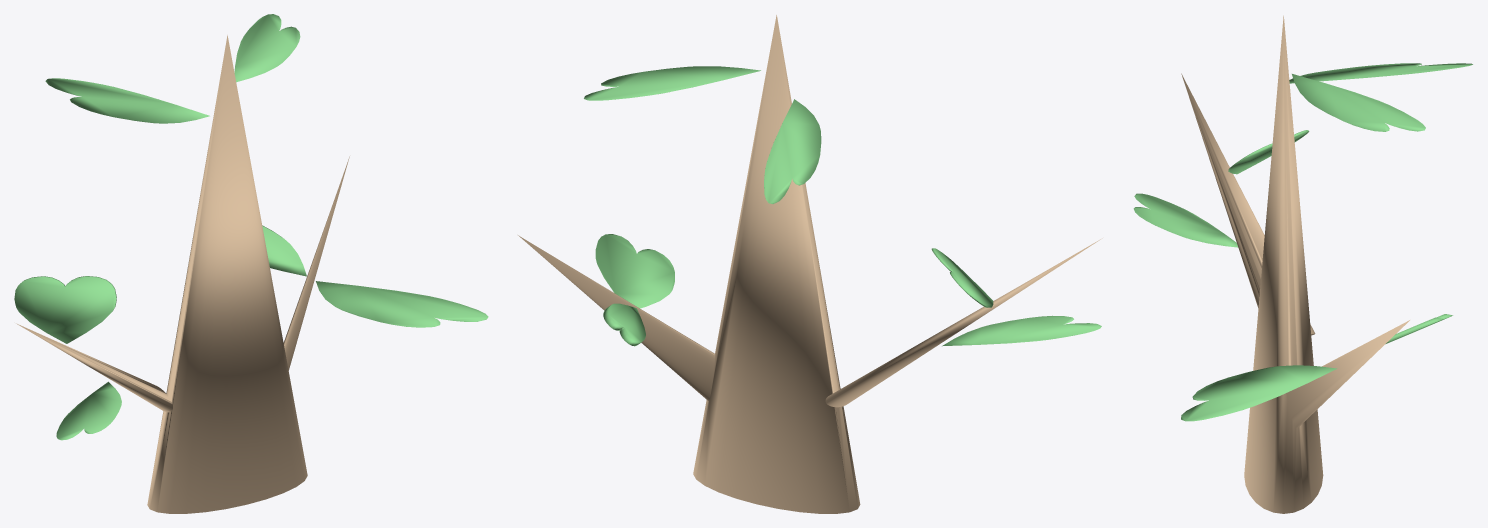
Rendered from level5.glb.
The picture shows the model from 3 angles, left to right: view 1: azimuth 30°, elevation 25°; view 2: azimuth 150°, elevation 25°; view 3: azimuth 270°, elevation 25°; orthographic projection. The views are drawn at different scales.
Visible parts, largest first — view 1: obj_0.004; view 2: obj_0.004; view 3: obj_0.004.
Part boxes in pixels (bbox=[...]): obj_0.004: bbox=[14, 14, 488, 513]; obj_0.004: bbox=[518, 15, 1102, 513]; obj_0.004: bbox=[1133, 15, 1472, 513].
Size of the model in its own units: 78 by 71.23 by 47.56.
